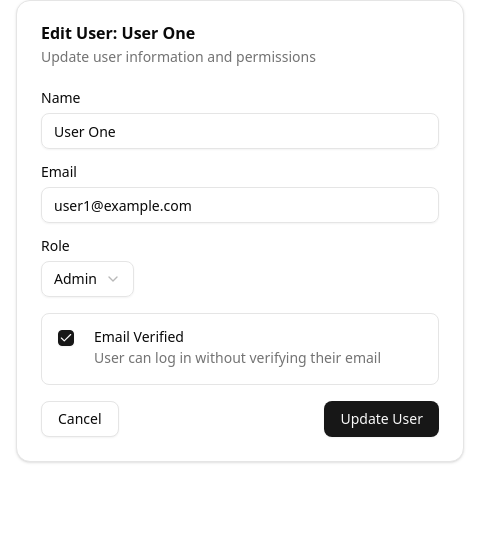
Scenario: EditUser › submits the form and shows success
Replace the text in the field labelled "Name" with "Updated User". click: (240, 131)
box: [41, 113, 439, 149]
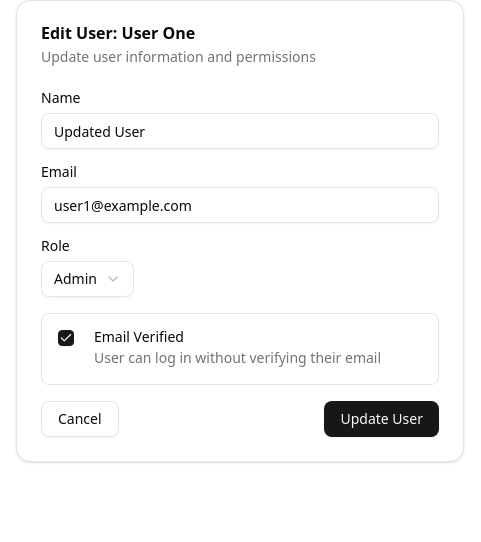
Note: Use getByRole for the submit button
Click the button "Update User". click: (382, 419)
box: [324, 401, 439, 437]
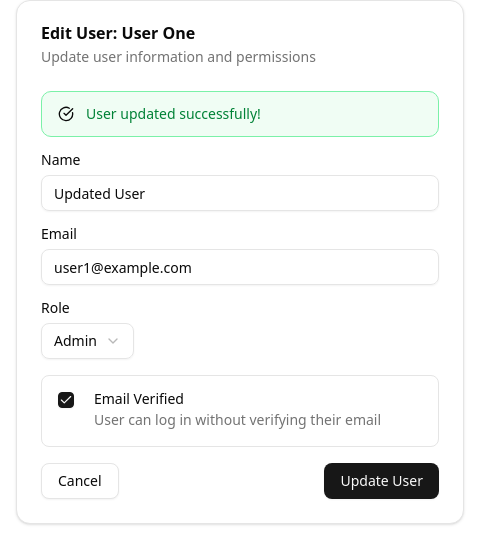
Expected: the text "User updated successfully!" is shown, [86, 104, 261, 123]
